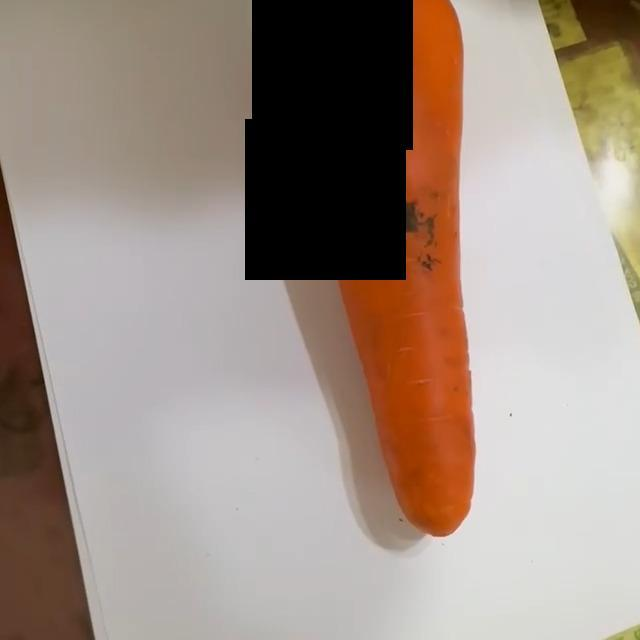carrot: (300, 1, 478, 540)
